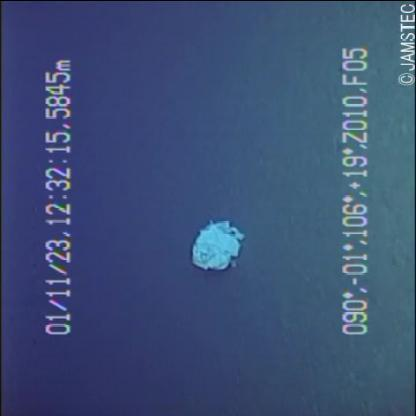Rác: (180, 211, 256, 287)
